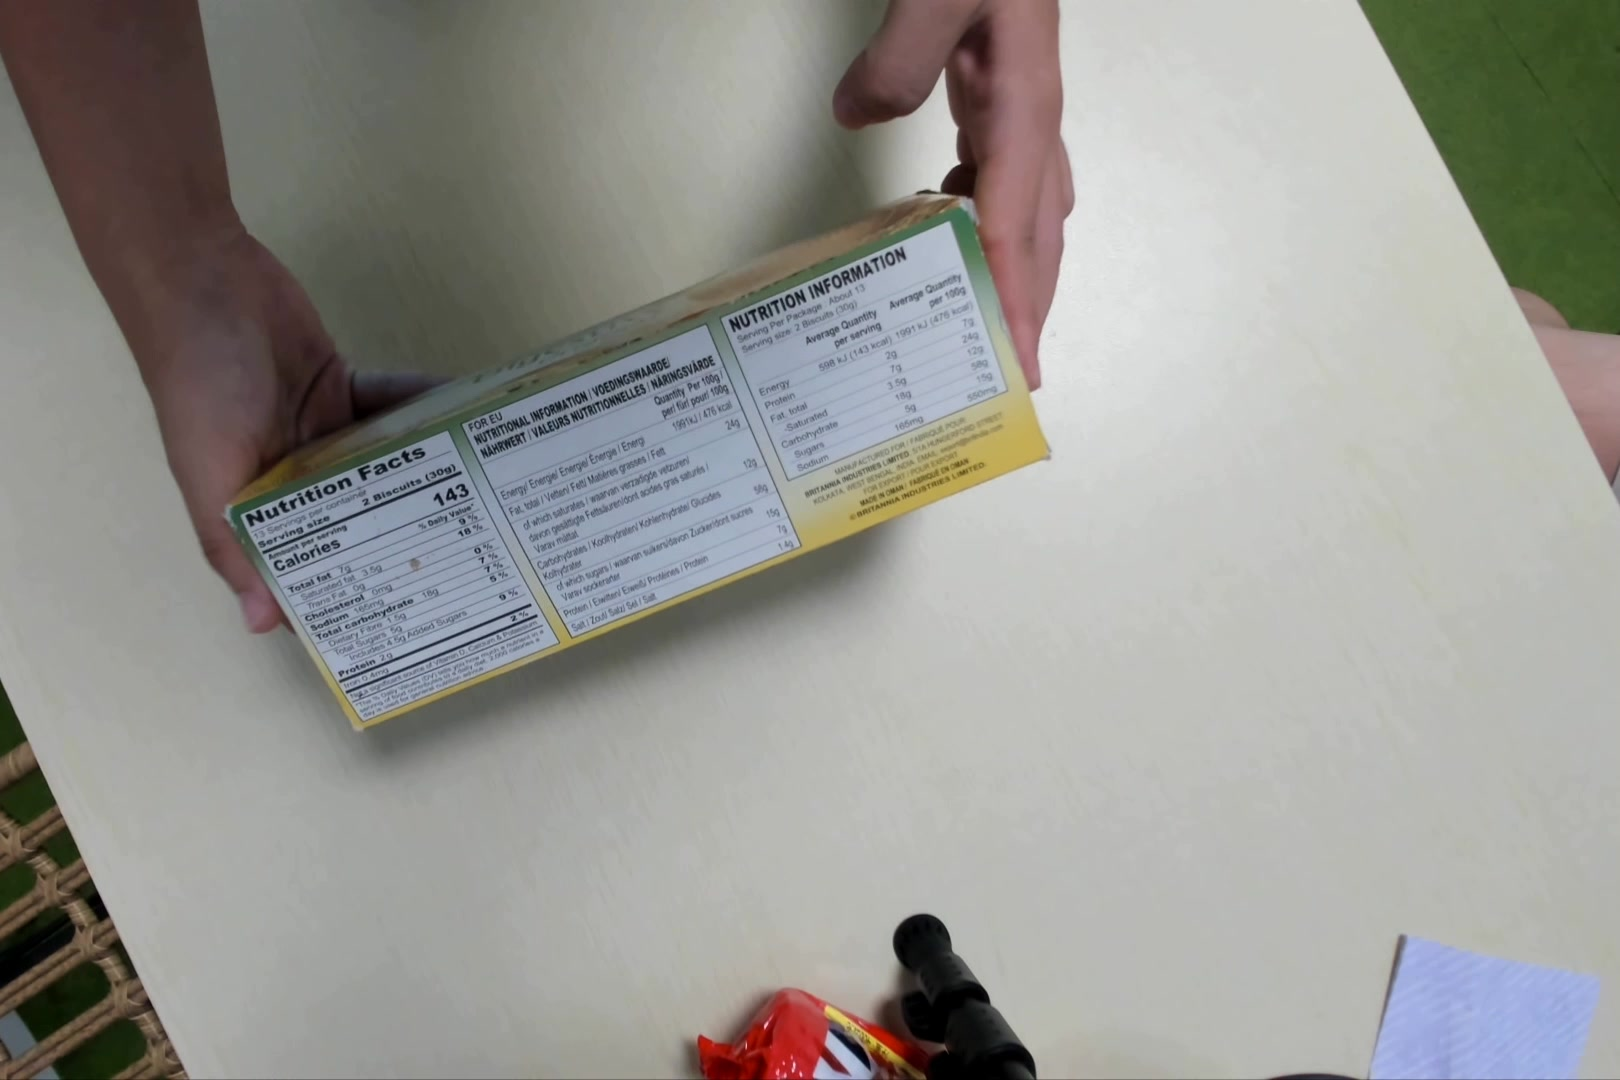BiscuitsCrackersCookies_400-499g_NonHalal_NonHealthy: (228, 193, 1047, 738)
